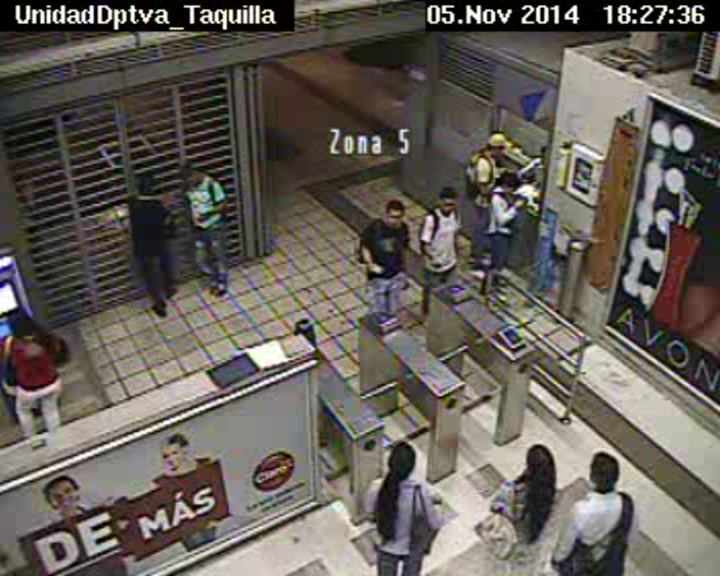person: (520, 442, 560, 485), (583, 449, 621, 493), (385, 440, 418, 480), (6, 310, 41, 342), (482, 129, 511, 160), (381, 197, 409, 229), (431, 184, 459, 215), (131, 171, 157, 201), (179, 163, 207, 190), (495, 168, 520, 198)
